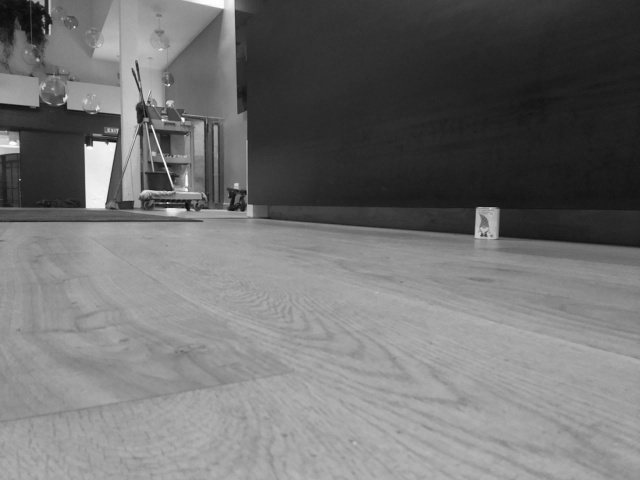gnome: (477, 213, 494, 237)
